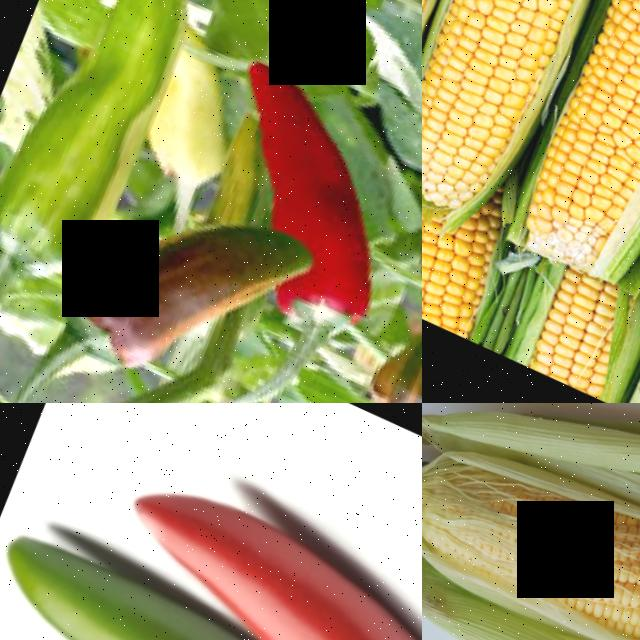chilli: (0, 0, 240, 319), (73, 423, 422, 640), (28, 155, 318, 403), (181, 52, 410, 253), (0, 514, 315, 640), (344, 89, 422, 403)
corn: (461, 0, 640, 298), (422, 0, 640, 229), (422, 418, 640, 640), (422, 0, 546, 187), (499, 262, 629, 399), (422, 190, 500, 339)
